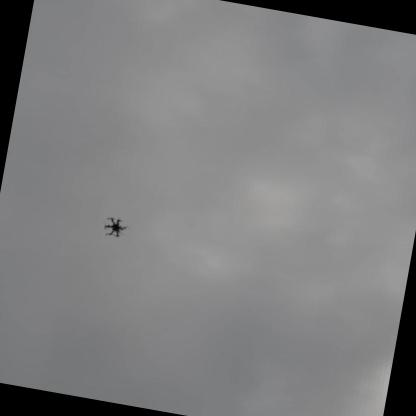drone: (97, 209, 134, 242)
